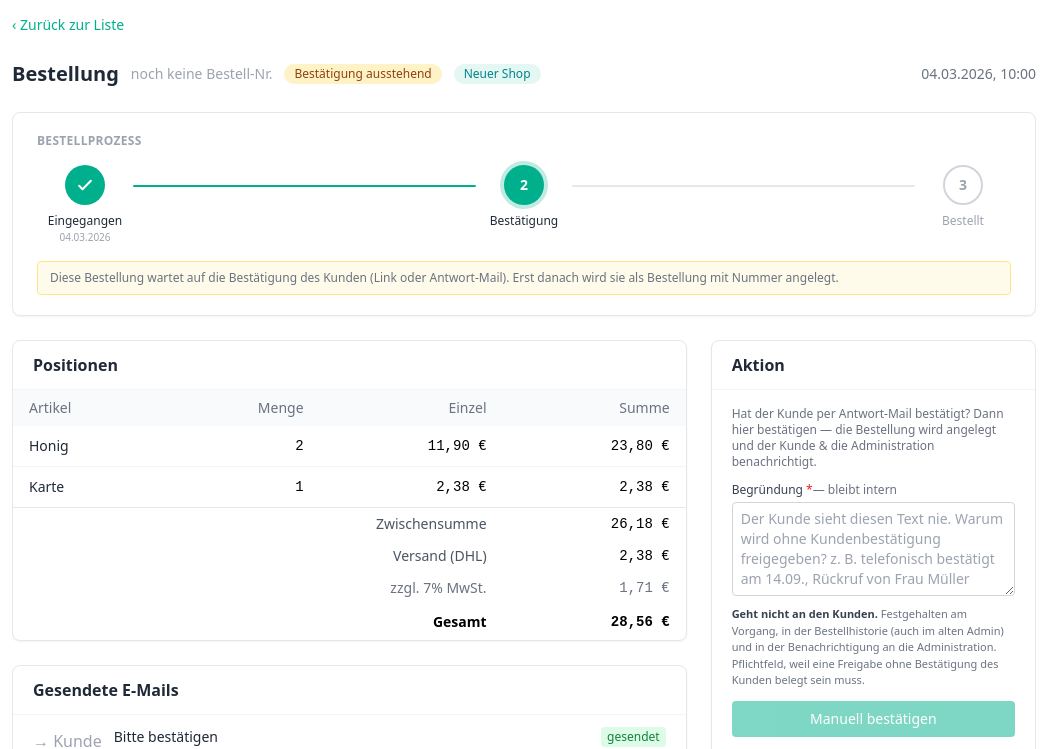
Test: confirming by hand › keeps the button out of reach until a reason is given
The width and height of the screenshot is (1048, 749).
Expected: the button "Manuell bestätigen" is disabled, [732, 700, 1015, 736]
Replace the text in the text box labelled "Begründung *— bleibt intern" with "Per Fax bestätigt." at {"x": 873, "y": 549}, box [732, 502, 1015, 596]
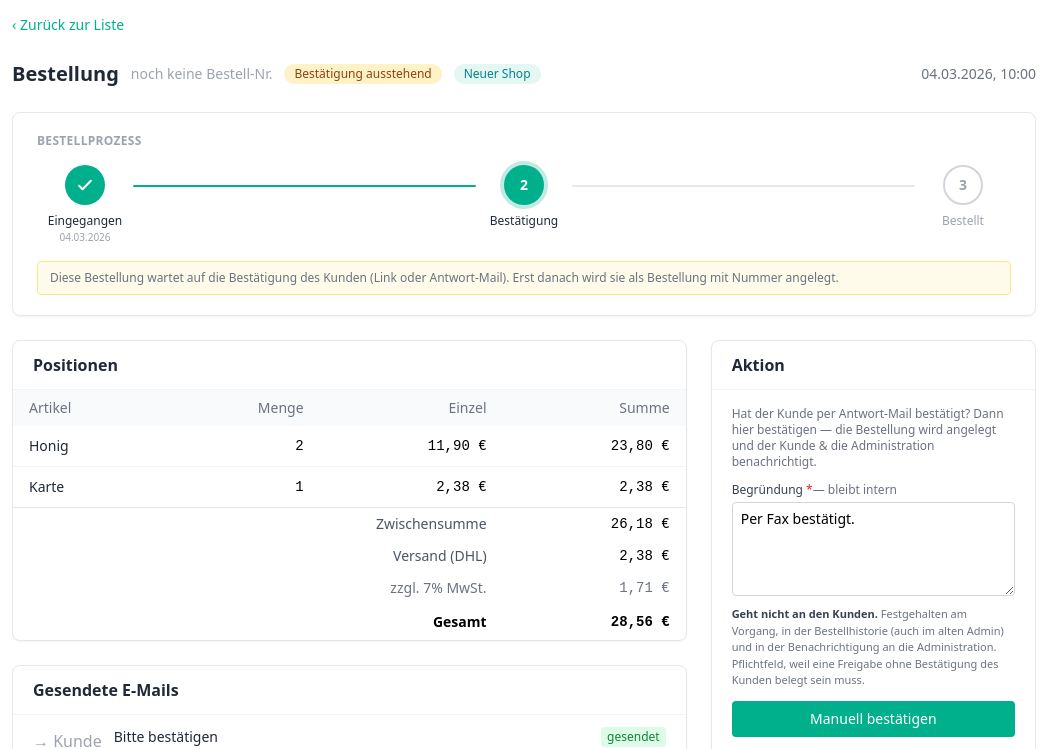
Expected: the button "Manuell bestätigen" is enabled, [732, 700, 1015, 736]
